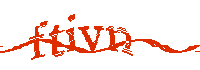f: (29, 21, 48, 60)
i: (65, 14, 78, 53)
n: (106, 23, 136, 56)
t: (49, 22, 66, 59)
v: (78, 24, 105, 53)
